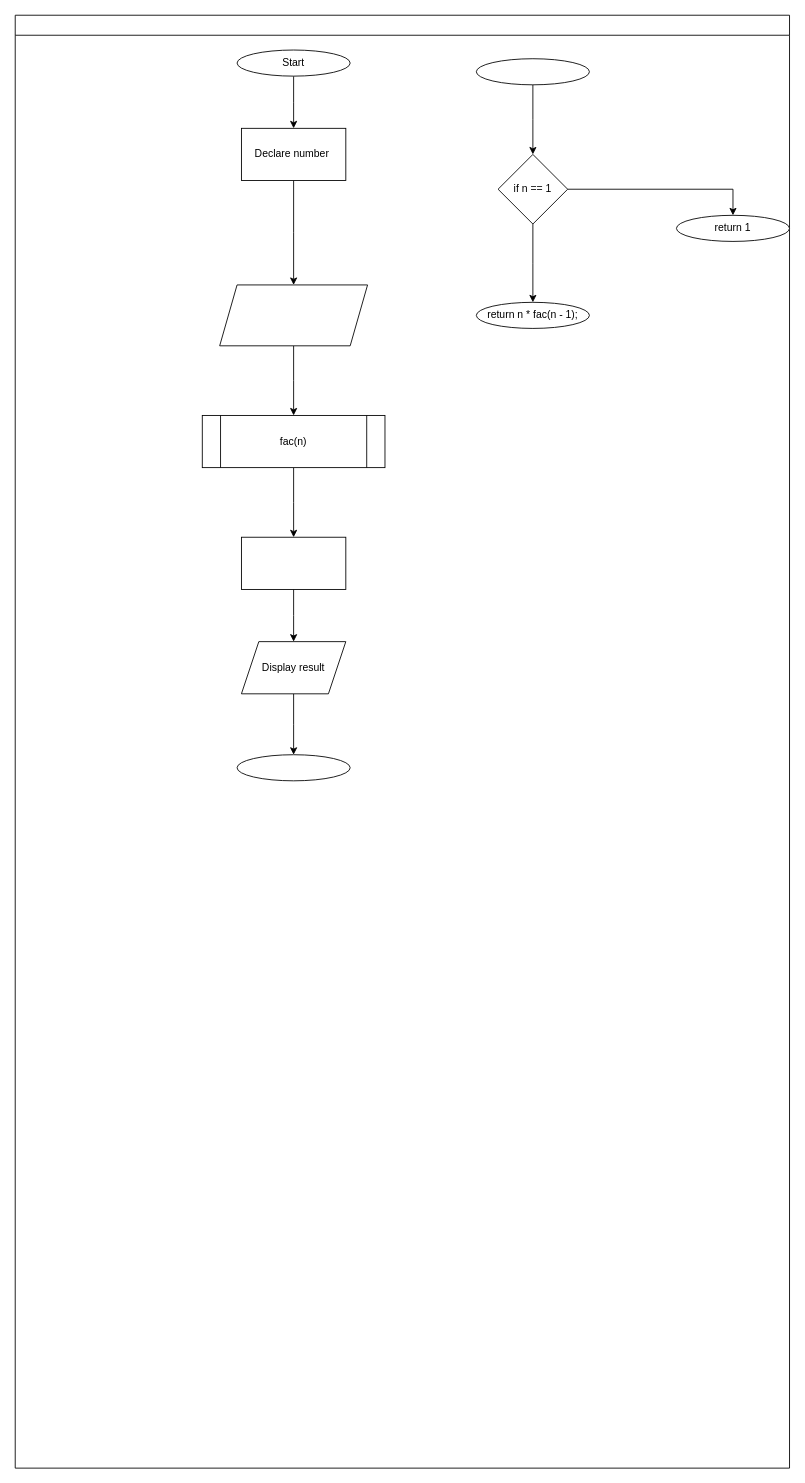
Image size: 805x1483. Some labels were removed from this diagram. The centre of each missing label's shape, as x and y in pixels:
"End" goes at (293,767).
"fac()" goes at (532,71).
"Read number" goes at (293,315).
"store in result variable" goes at (293,562).
